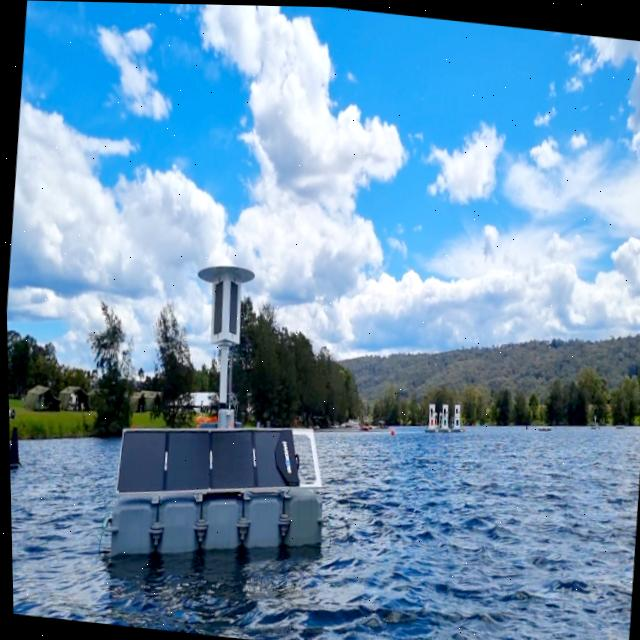led: (222, 275, 240, 337), (208, 279, 227, 337)
